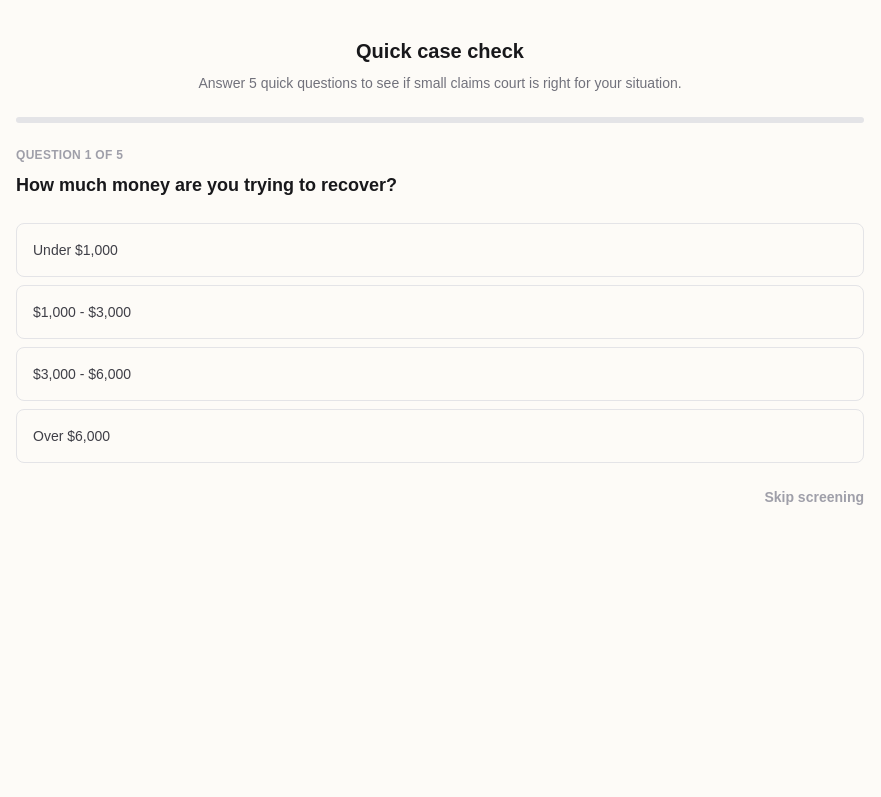
Test: Error path integration tests › handles network timeout errors gracefully
Click the button "Skip screening". click: (814,497)
box: x1=764 y1=487 x2=864 y2=507
(page scrolled)
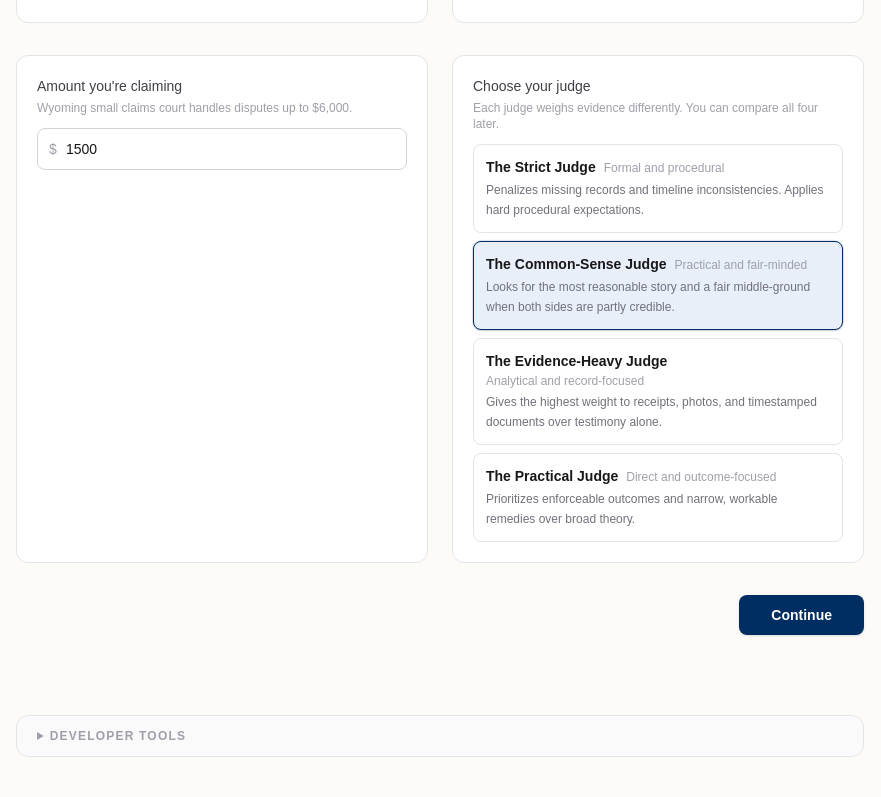
Click the button "Continue". click: (802,615)
box: x1=739 y1=595 x2=864 y2=635
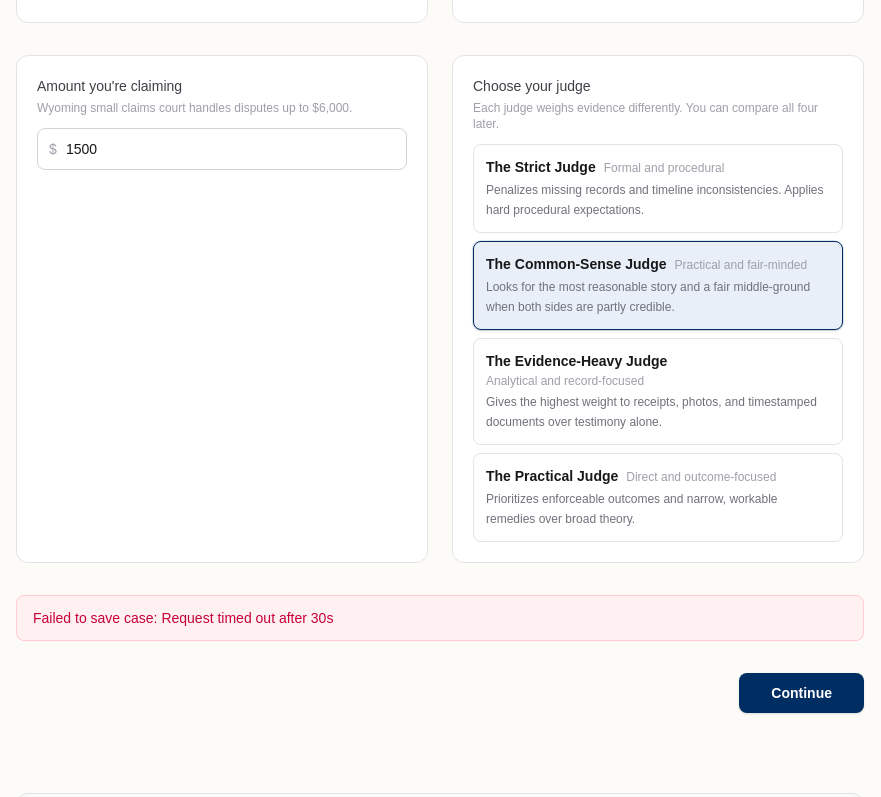
Now the text "Failed to save case: Request timed out after 30s" is shown, box x1=16 y1=595 x2=864 y2=641
